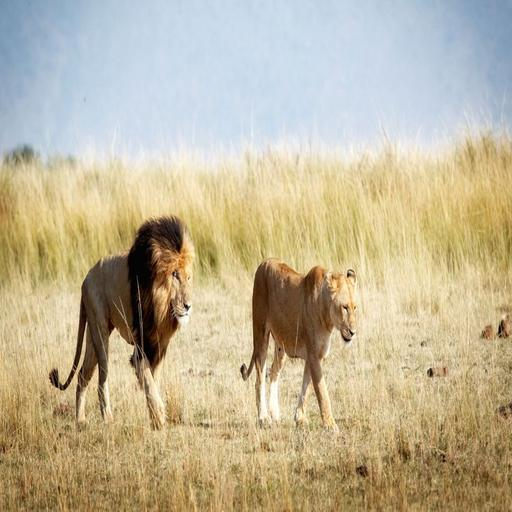Lion: (41, 214, 213, 433), (226, 242, 369, 452)
